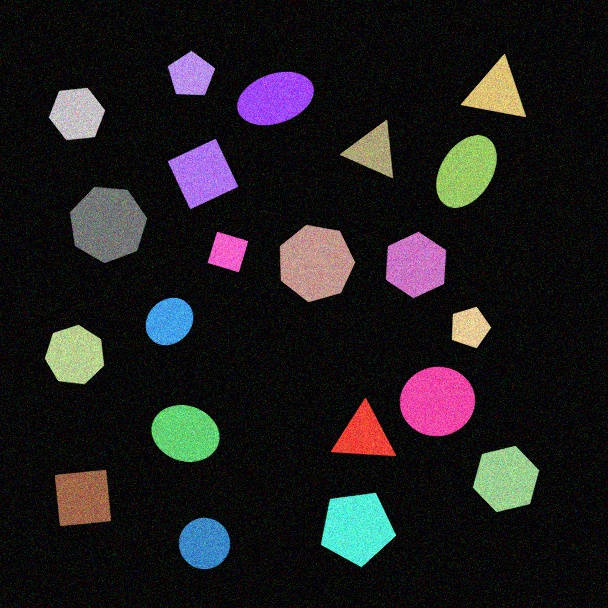Circulo: (399, 366, 476, 437), (178, 517, 231, 570), (145, 297, 194, 346)
Elipse: (435, 134, 498, 209), (236, 71, 315, 126), (151, 404, 220, 463)
Heptagono: (69, 186, 148, 264), (279, 224, 356, 303), (44, 324, 105, 385)
Hexagono: (472, 445, 540, 513), (385, 231, 447, 299), (48, 87, 106, 141)
Pentagono: (320, 492, 397, 568), (167, 50, 216, 96), (451, 306, 492, 349)
Quadrado: (167, 138, 239, 210), (54, 469, 112, 527), (207, 231, 249, 273)
Triangulo: (460, 54, 527, 118), (330, 398, 397, 457), (340, 119, 394, 179)
